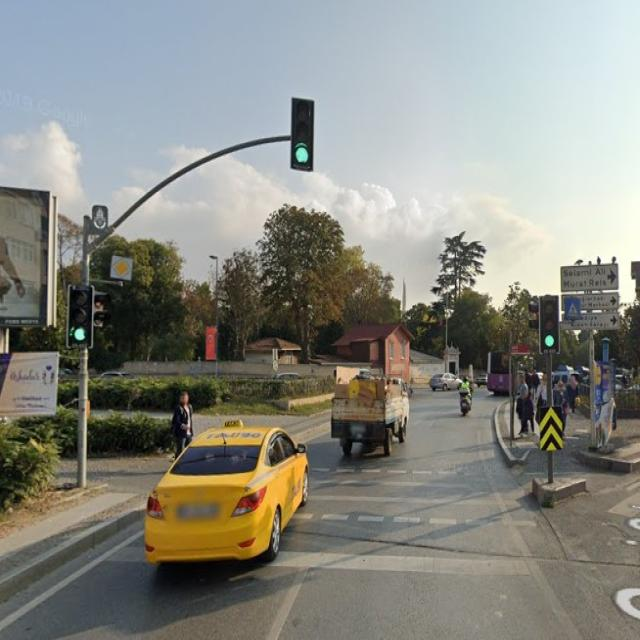yesil: (290, 98, 312, 171), (67, 285, 91, 347), (540, 296, 560, 354)
